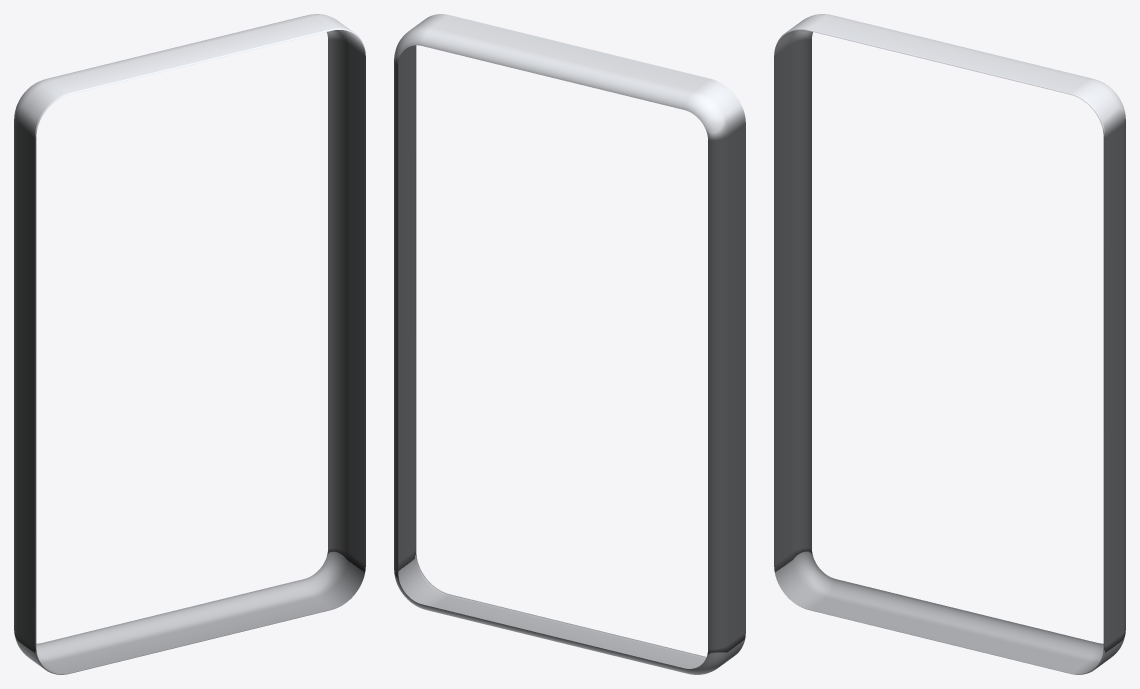
Rendered from asspod_steel_edge.obj.
3 views of the same model, side by side, from view 1: azimuth 30°, elevation 25°; view 2: azimuth 150°, elevation 25°; view 3: azimuth 330°, elevation 25° (orthographic).
Bounding box in the file's own units: 0.0618 × 0.1035 × 0.00896.
1 material, 1 textured.
